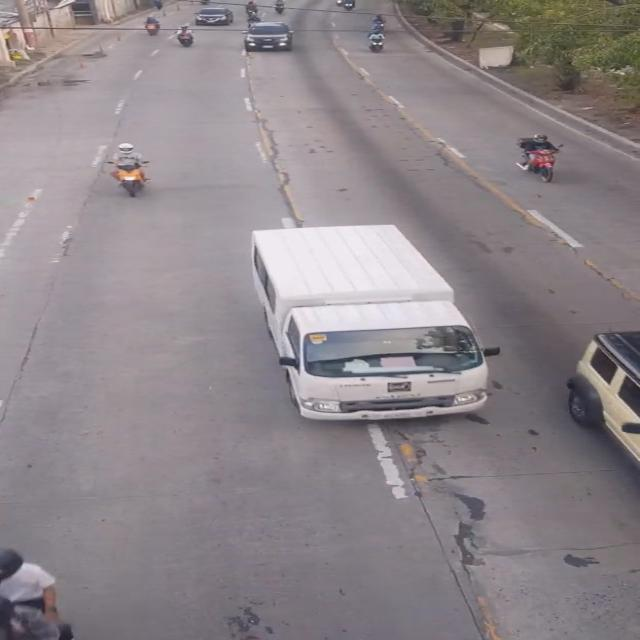motorbike: (0, 543, 68, 640), (105, 143, 150, 199), (512, 129, 560, 181)
truck: (254, 216, 494, 423)
